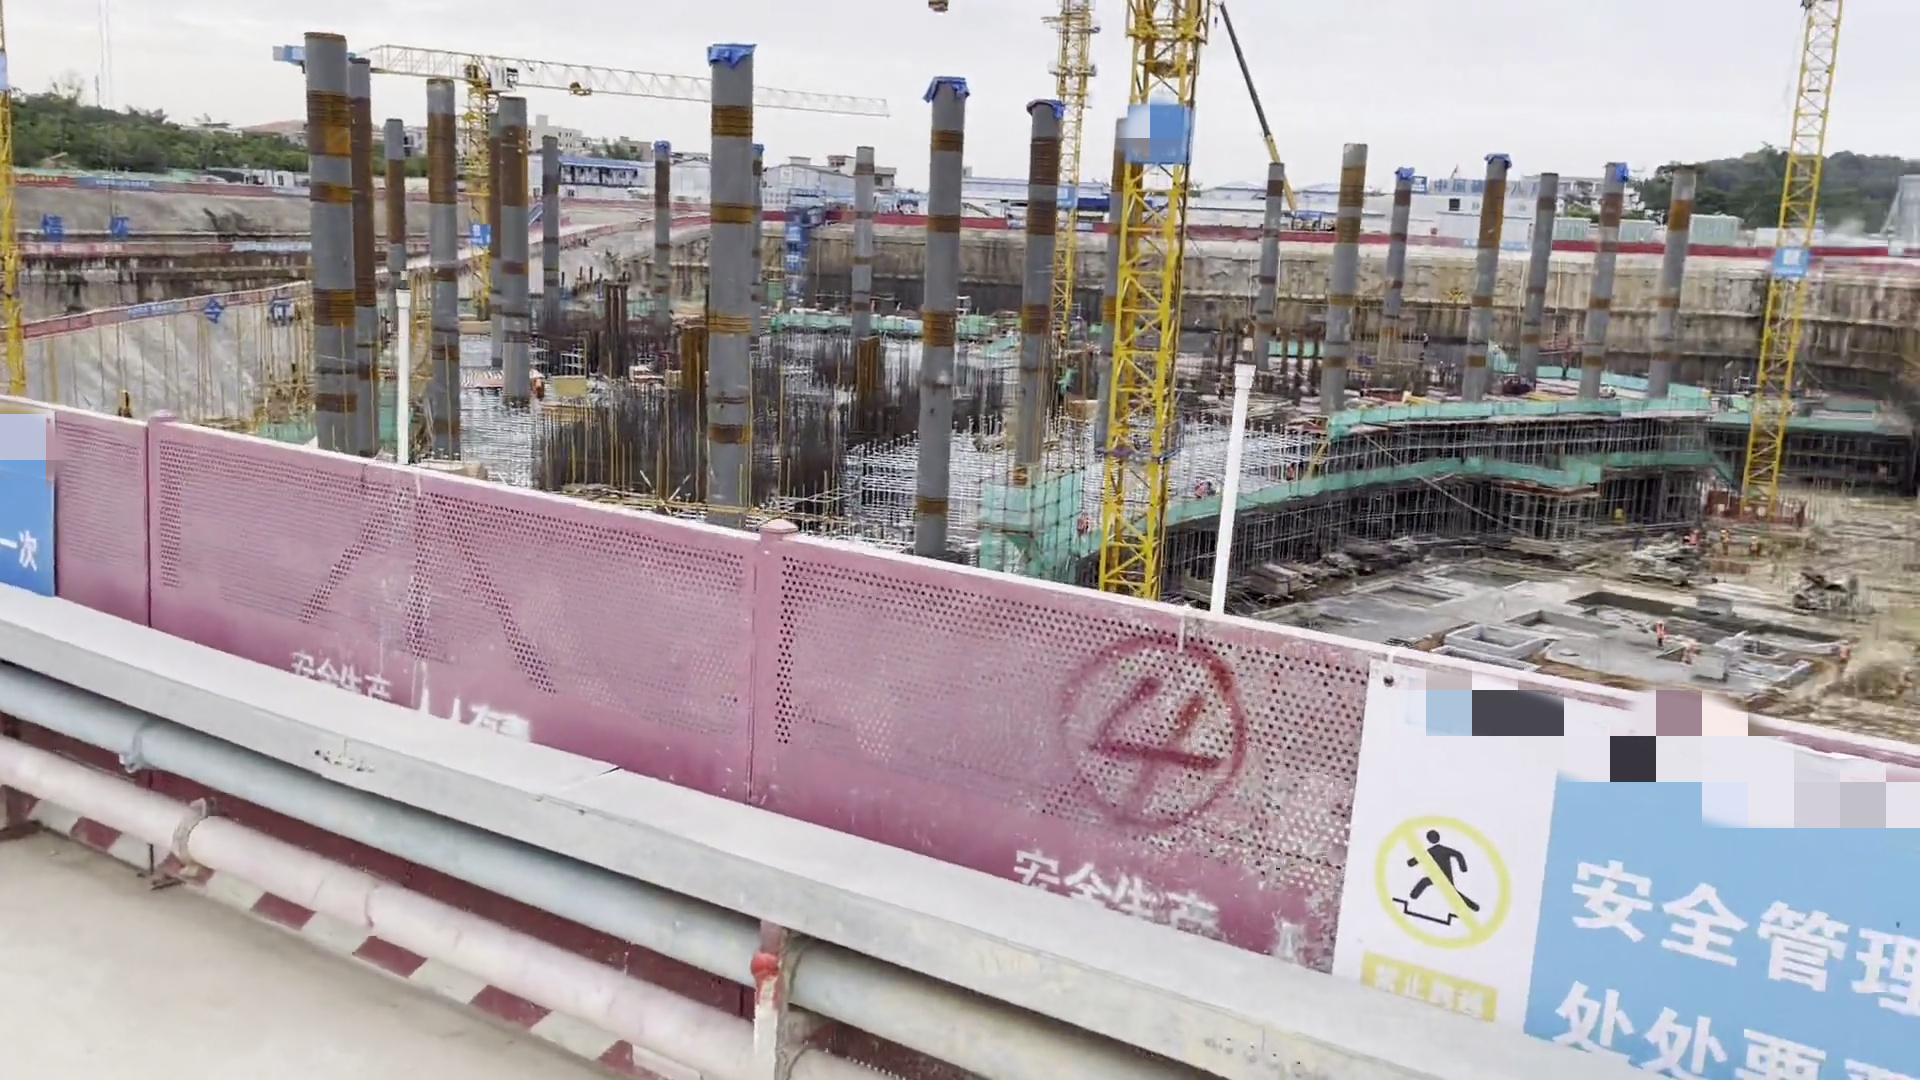brick: (1448, 622, 1545, 659), (1515, 659, 1547, 673), (1428, 645, 1454, 655)
fence: (2, 393, 1920, 1078)
helmet: (1720, 527, 1728, 535), (1657, 618, 1665, 625), (1751, 535, 1758, 541)
person: (1650, 613, 1673, 660), (1713, 526, 1732, 563), (1745, 533, 1763, 566)
scaffold: (957, 538, 983, 564)
slogan: (1321, 651, 1920, 1080), (1, 384, 96, 619), (1114, 84, 1207, 181), (1402, 166, 1591, 203), (773, 211, 821, 308), (1764, 237, 1822, 285), (456, 212, 515, 259), (1054, 170, 1091, 218)
vest: (1720, 535, 1730, 550), (1656, 626, 1665, 640), (1750, 541, 1759, 553)
wood: (451, 455, 498, 482), (549, 372, 592, 400)
